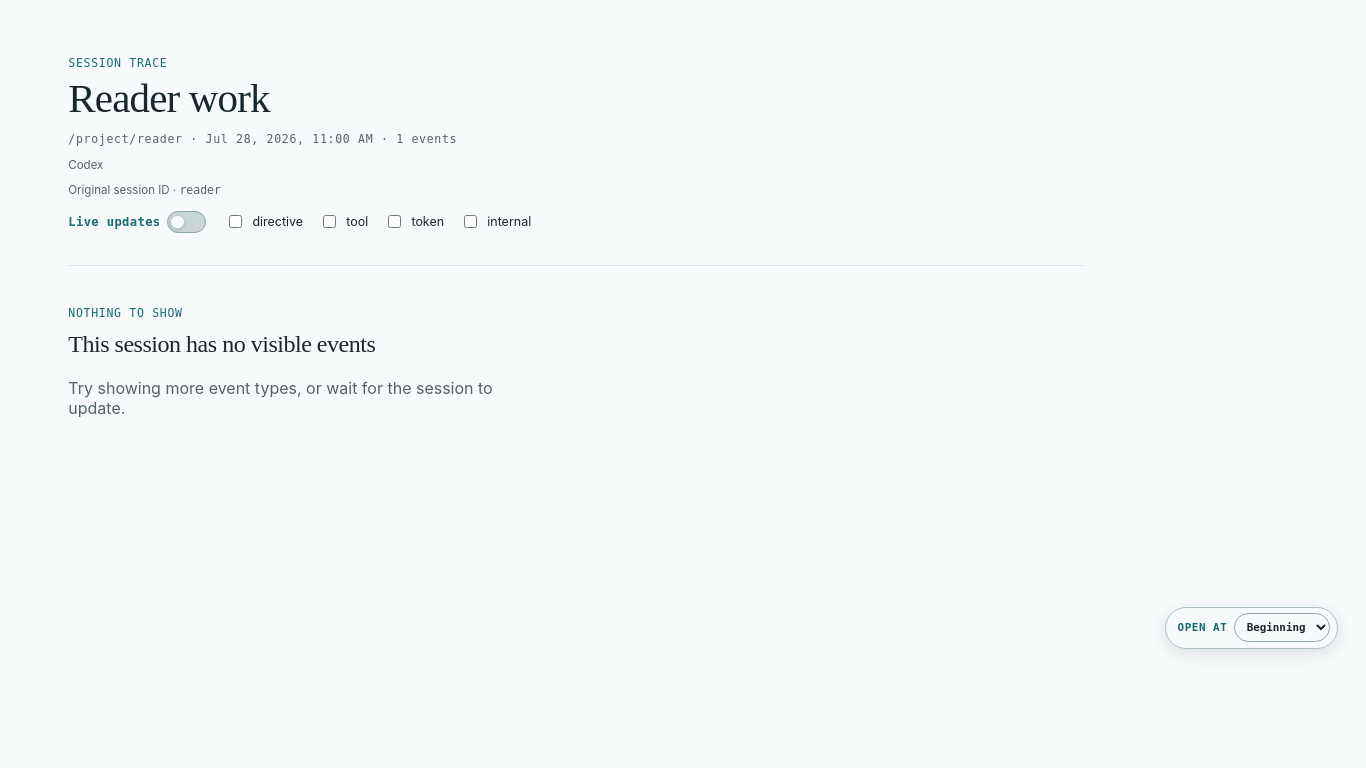
it: session reader items › toggles technical-event visibility for the current page
The image size is (1366, 768).
Click the checkbox labelled "internal". click: (471, 222)
box: [464, 215, 477, 228]
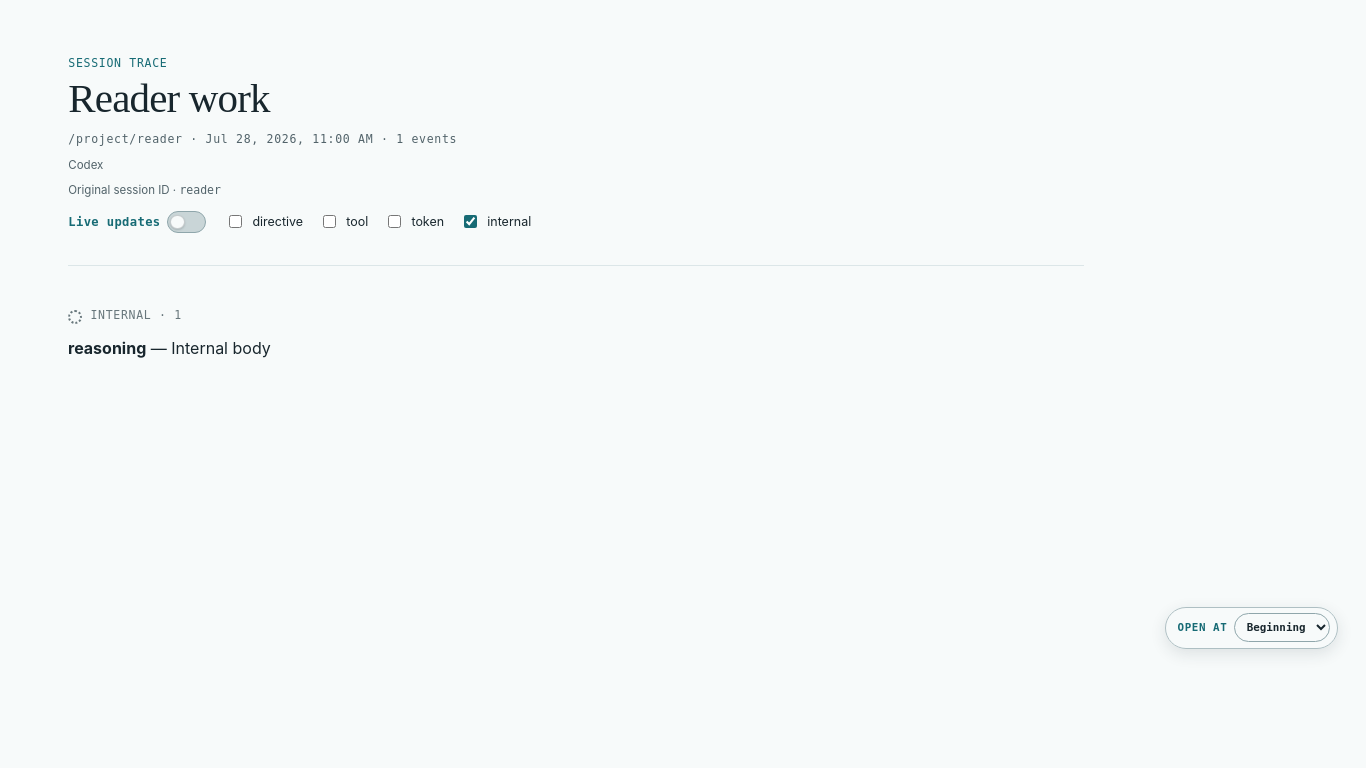
expect the text "reasoning — Internal body" is shown: met, box [68, 337, 271, 357]
